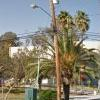Palm tree: (37, 25, 89, 100)
